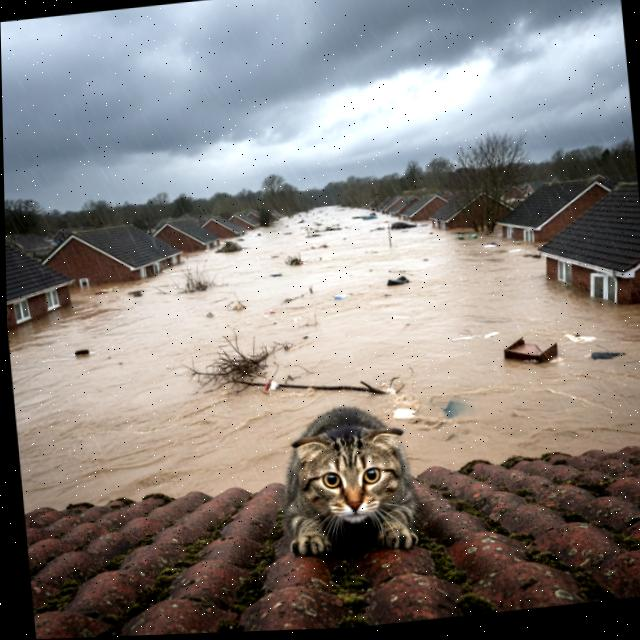cat: (269, 392, 437, 571)
